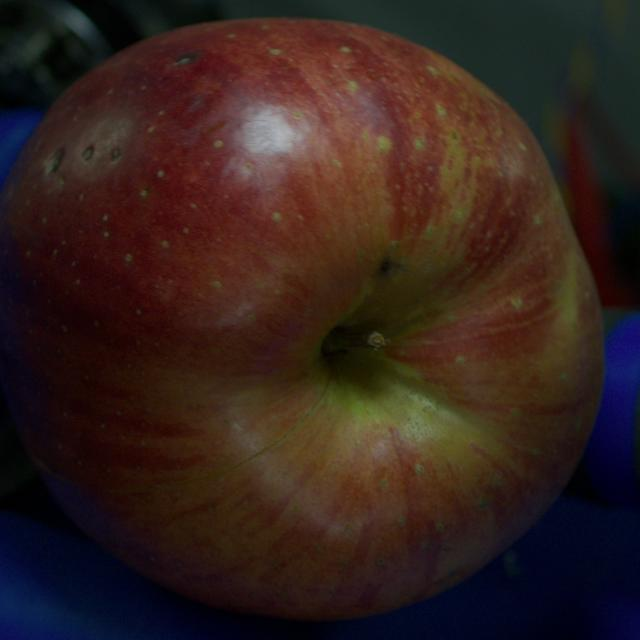apple: (0, 19, 602, 619)
pest: (48, 149, 63, 172), (174, 52, 199, 65), (379, 259, 393, 275), (83, 147, 93, 160), (111, 149, 121, 161)
